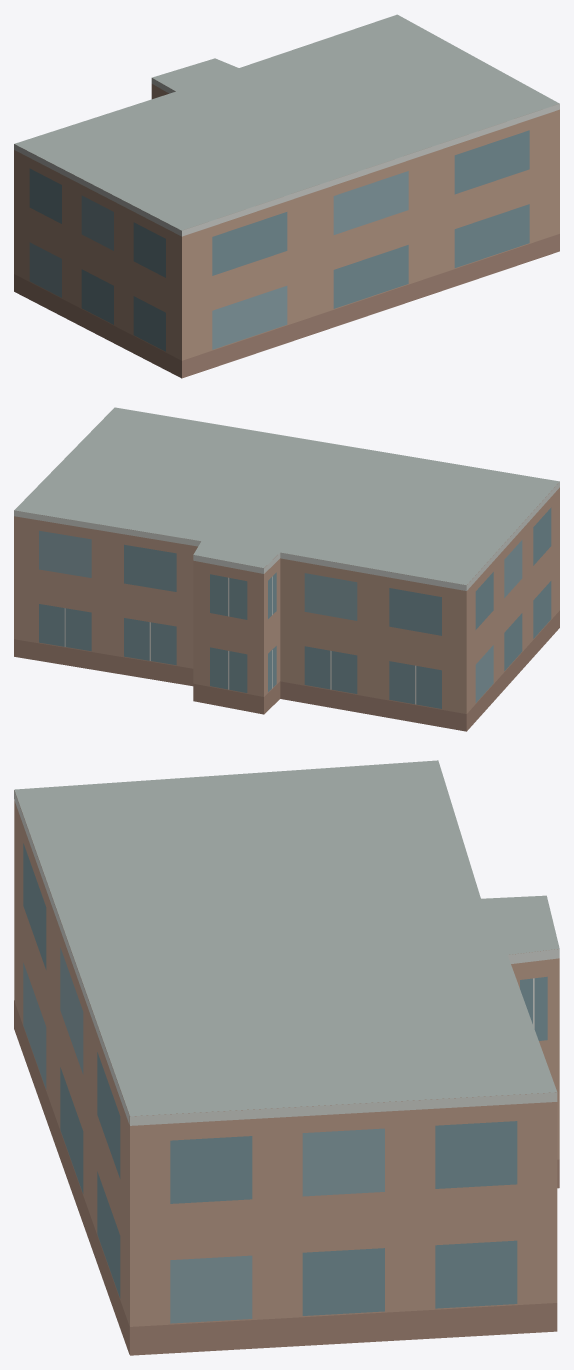
The model's file is survey-upis-32470604.glb.
3 renders of one model, top to bottom at view 1: azimuth 30°, elevation 25°; view 2: azimuth 150°, elevation 25°; view 3: azimuth 270°, elevation 25°, orthographic. The views are drawn at different scales.
Visible parts, largest first — view 1: survey-upis-32470604.tmp; view 2: survey-upis-32470604.tmp; view 3: survey-upis-32470604.tmp.
Boxes of the visible parts, <box> form: survey-upis-32470604.tmp: <box>14,14,559,378</box>; survey-upis-32470604.tmp: <box>14,407,559,731</box>; survey-upis-32470604.tmp: <box>14,760,559,1355</box>.
Bounding box in the file's own units: 19.48 × 6.1 × 12.62.
